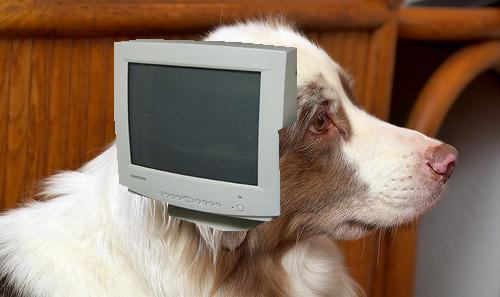tampered: (115, 40, 297, 231)
